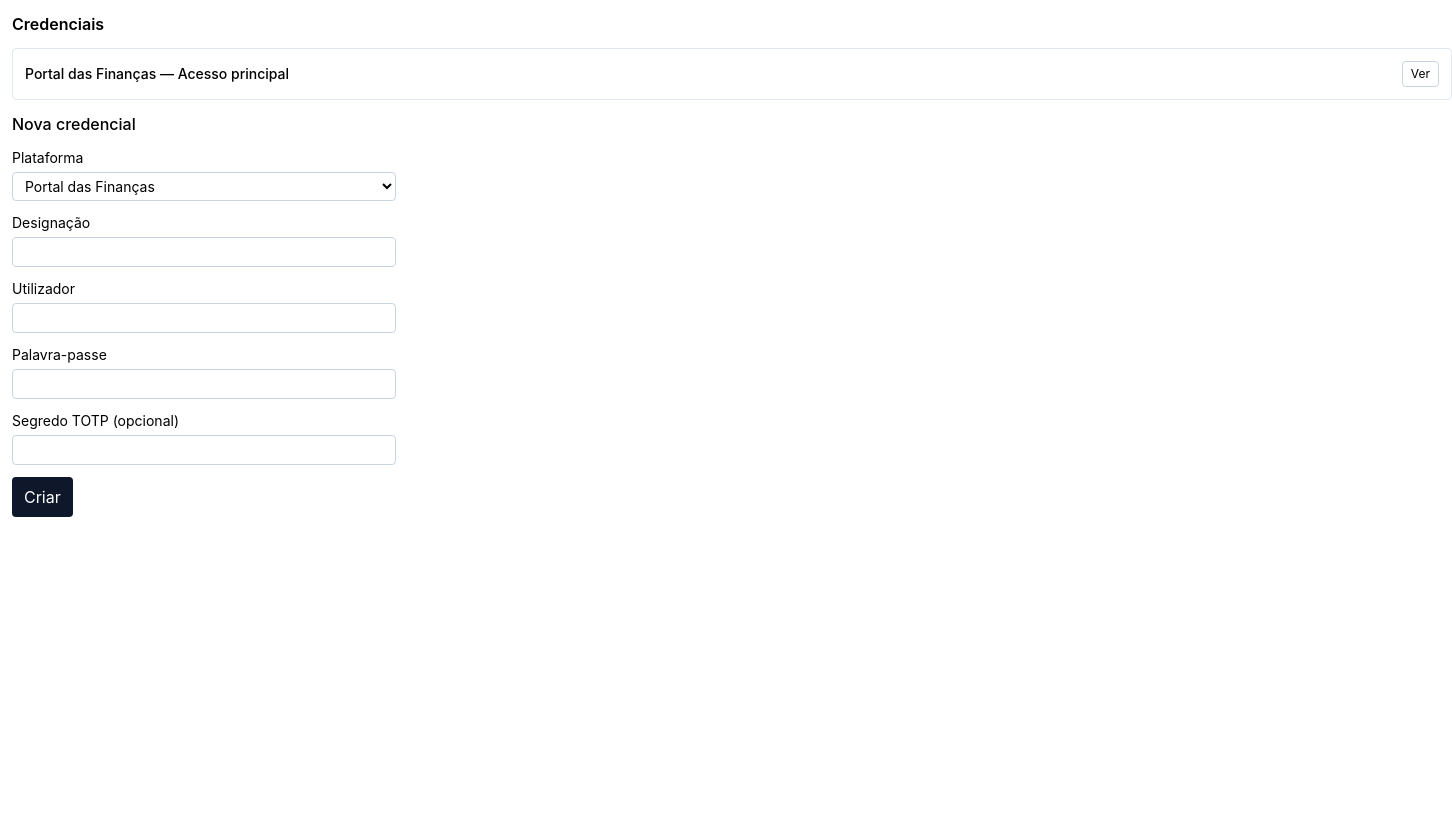
CredentialsSection › decrypts and reveals a credential on demand
Click the button "Ver": (1420, 74) left=1402, top=61, right=1439, bottom=87
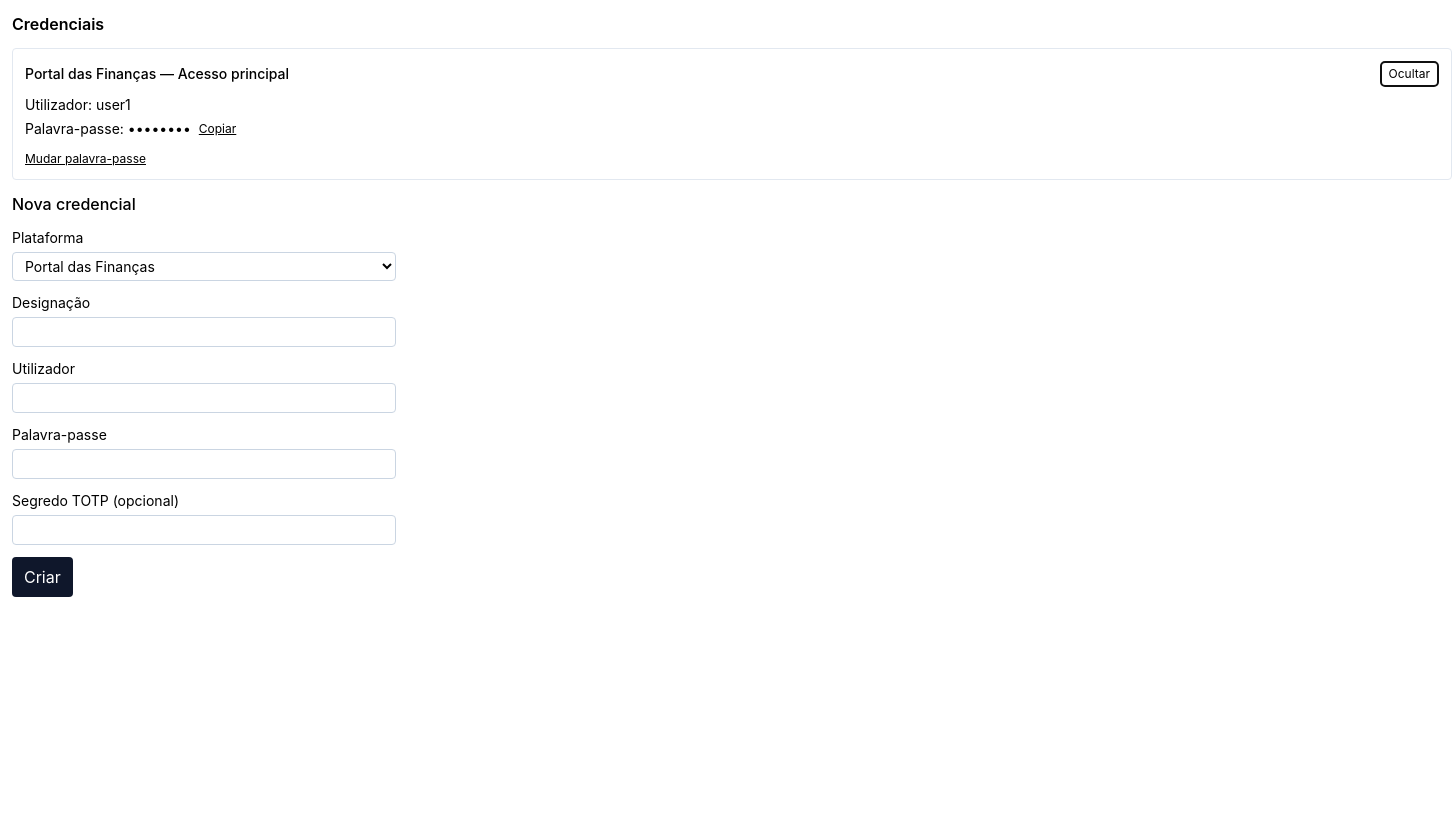
Check: the text "Utilizador: user1" is shown, box left=25, top=96, right=131, bottom=113
